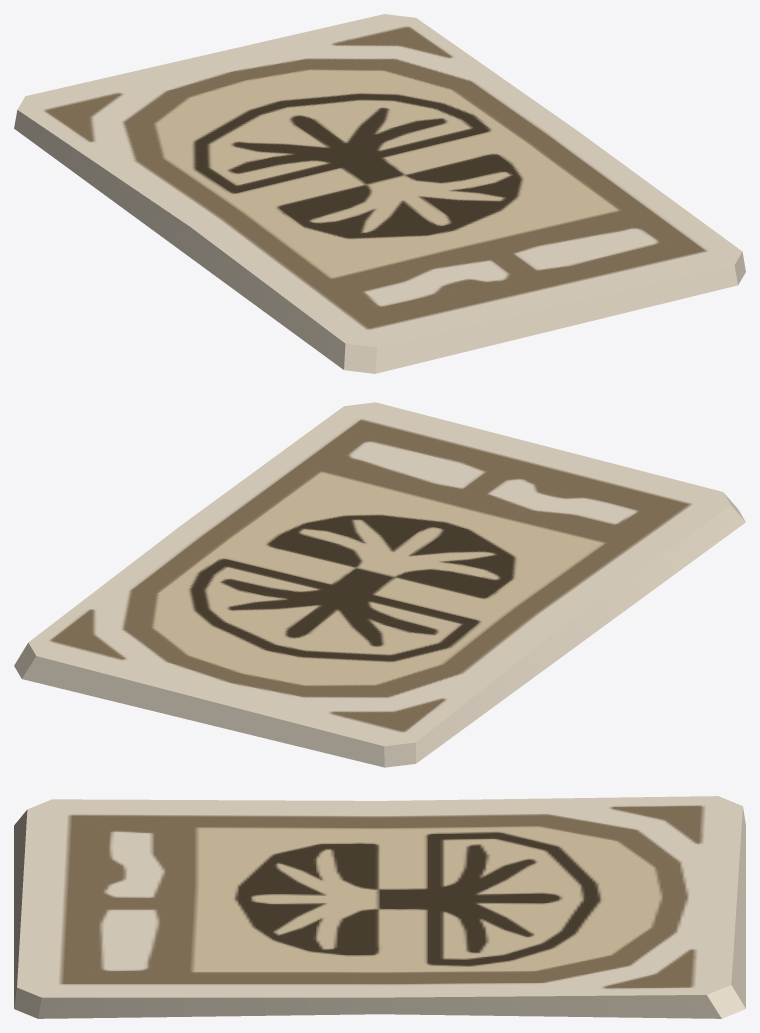
Rendered from SM_Prop_Tarot_Card_02.fbx.
3 renders of one model, top to bottom at view 1: azimuth 30°, elevation 25°; view 2: azimuth 150°, elevation 25°; view 3: azimuth 270°, elevation 25°, orthographic. The views are drawn at different scales.
Visible parts, largest first — view 1: SM_Prop_Tarot_Card_02; view 2: SM_Prop_Tarot_Card_02; view 3: SM_Prop_Tarot_Card_02.
Boxes of the visible parts, x1=… form: SM_Prop_Tarot_Card_02: x1=14, y1=14, x2=745, y2=373; SM_Prop_Tarot_Card_02: x1=14, y1=402, x2=745, y2=767; SM_Prop_Tarot_Card_02: x1=14, y1=796, x2=745, y2=1018.
Bounding box in the file's own units: 13.22 × 0.62 × 20.12.
